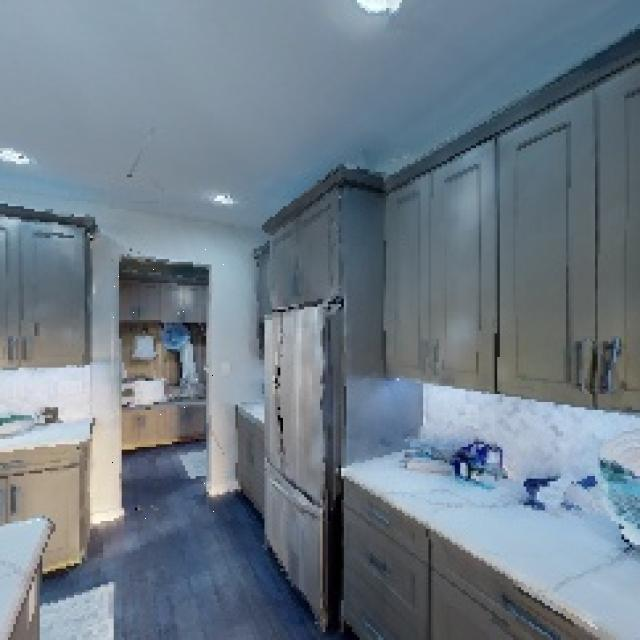door-frame: (110, 240, 228, 526)
